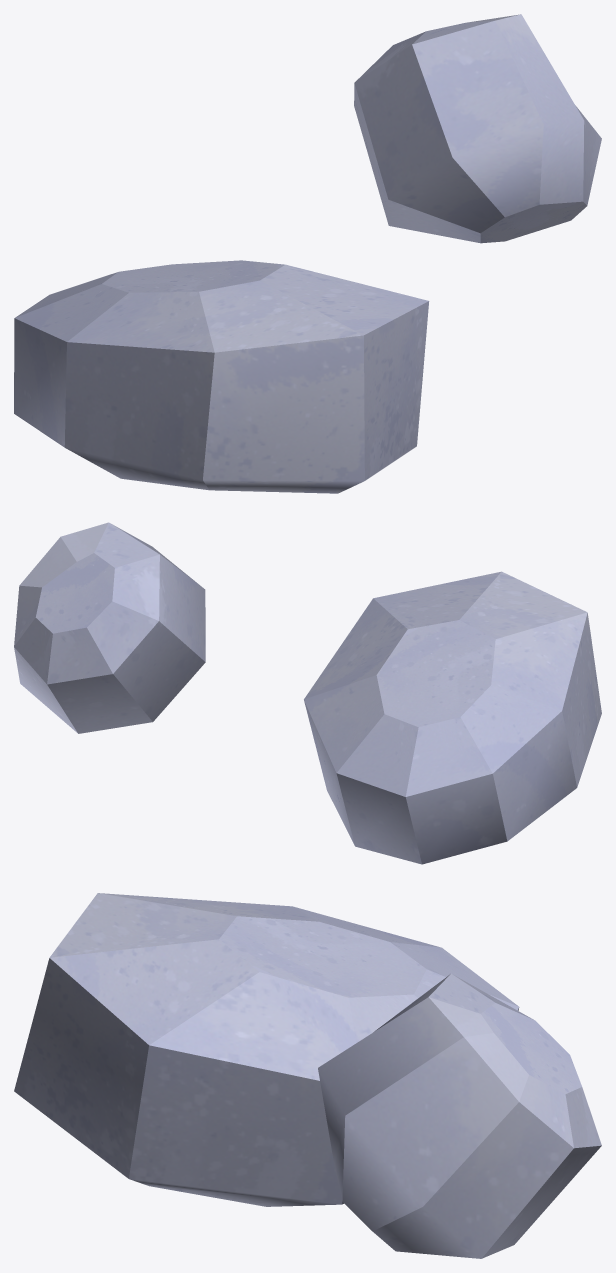
The model's file is SM_rockCluster3.fbx.
3 renders of one model, top to bottom at view 1: azimuth 30°, elevation 25°; view 2: azimuth 150°, elevation 25°; view 3: azimuth 270°, elevation 25°, orthographic. The views are drawn at different scales.
Visible parts, largest first — view 1: rockCluster3; view 2: rockCluster3; view 3: rockCluster3.
Boxes of the visible parts, x1,y1,x2,y2 form: rockCluster3: [14, 14, 601, 493]; rockCluster3: [14, 522, 601, 864]; rockCluster3: [14, 893, 601, 1258].
Size of the model in its own units: 7.18 by 3.59 by 5.55.
